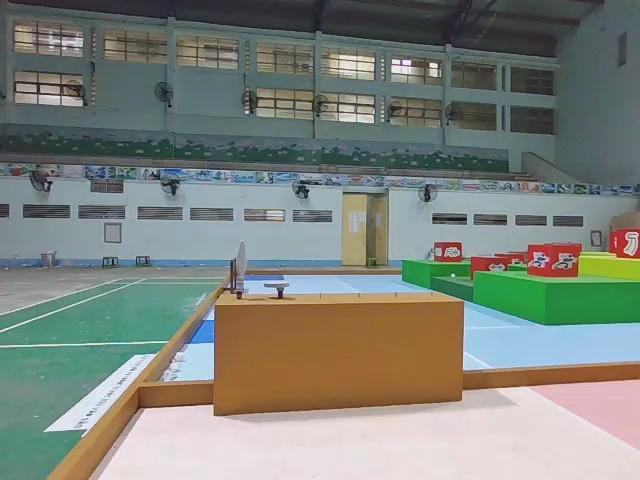Hand: (265, 280, 290, 298)
Sph: (233, 239, 249, 298)
